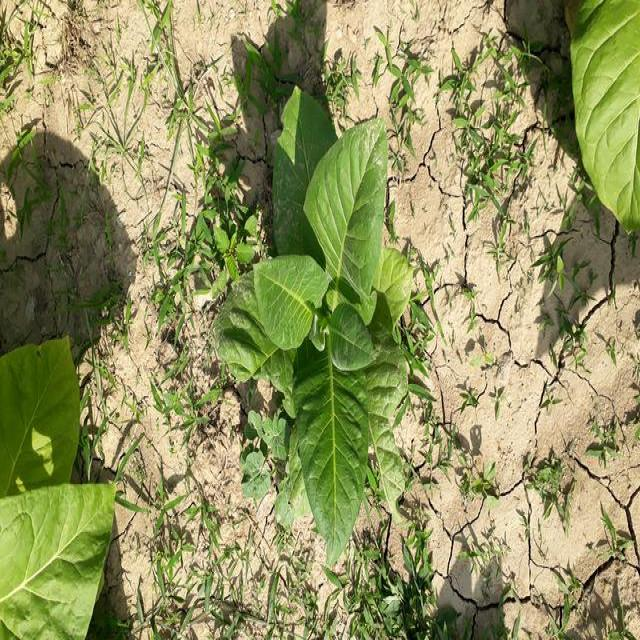crop: (228, 95, 412, 540), (0, 354, 114, 640), (562, 0, 640, 240)
